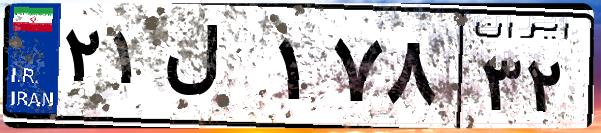1: (270, 28, 330, 110), (110, 28, 158, 98)
2: (57, 26, 110, 100), (525, 38, 570, 115)
3: (475, 38, 525, 113)
7: (330, 28, 385, 110)
8: (385, 28, 445, 110)
ل: (158, 20, 270, 120)
